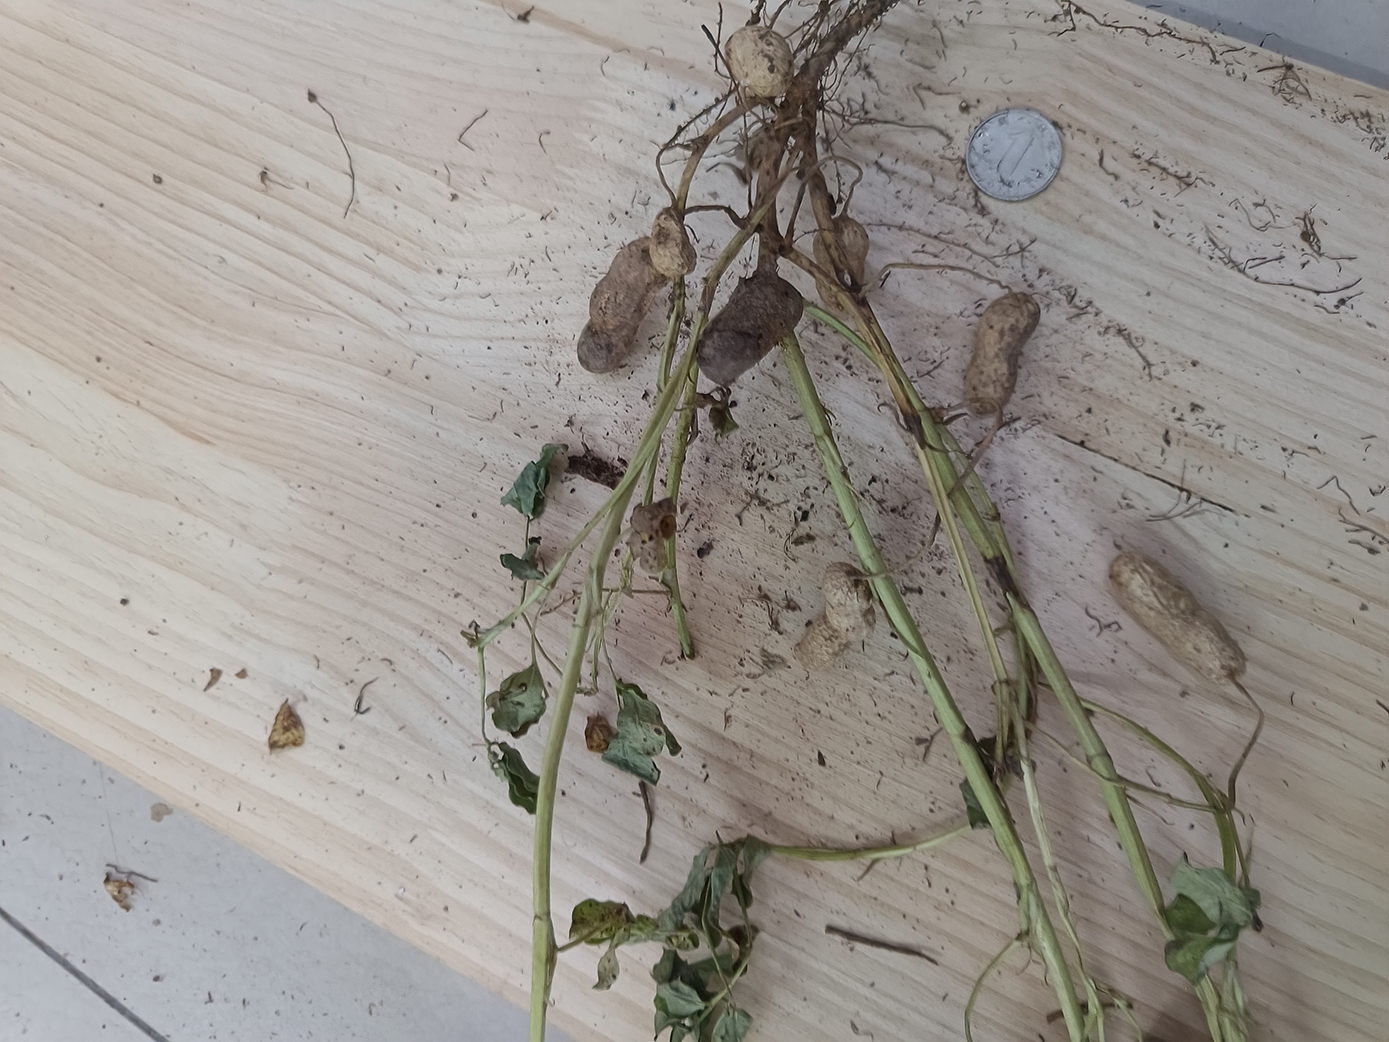h: (1103, 551, 1247, 680), (961, 292, 1043, 412), (792, 560, 877, 667), (813, 216, 868, 314), (725, 28, 795, 100), (648, 208, 696, 279)
l: (697, 273, 805, 387), (578, 236, 655, 374)
